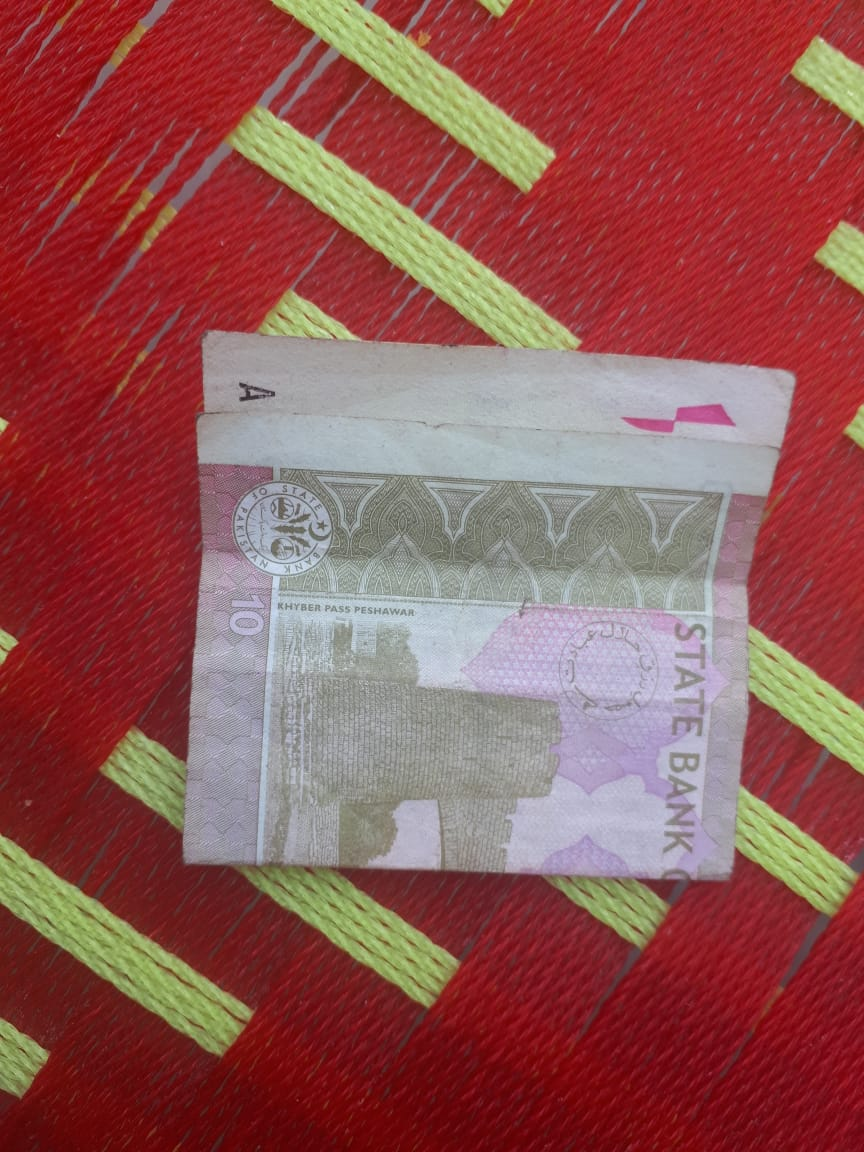10 rupee: (192, 328, 802, 885)
